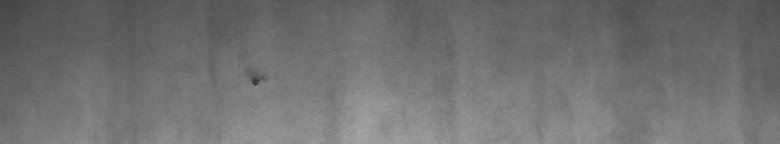fi: (245, 69, 268, 92)
